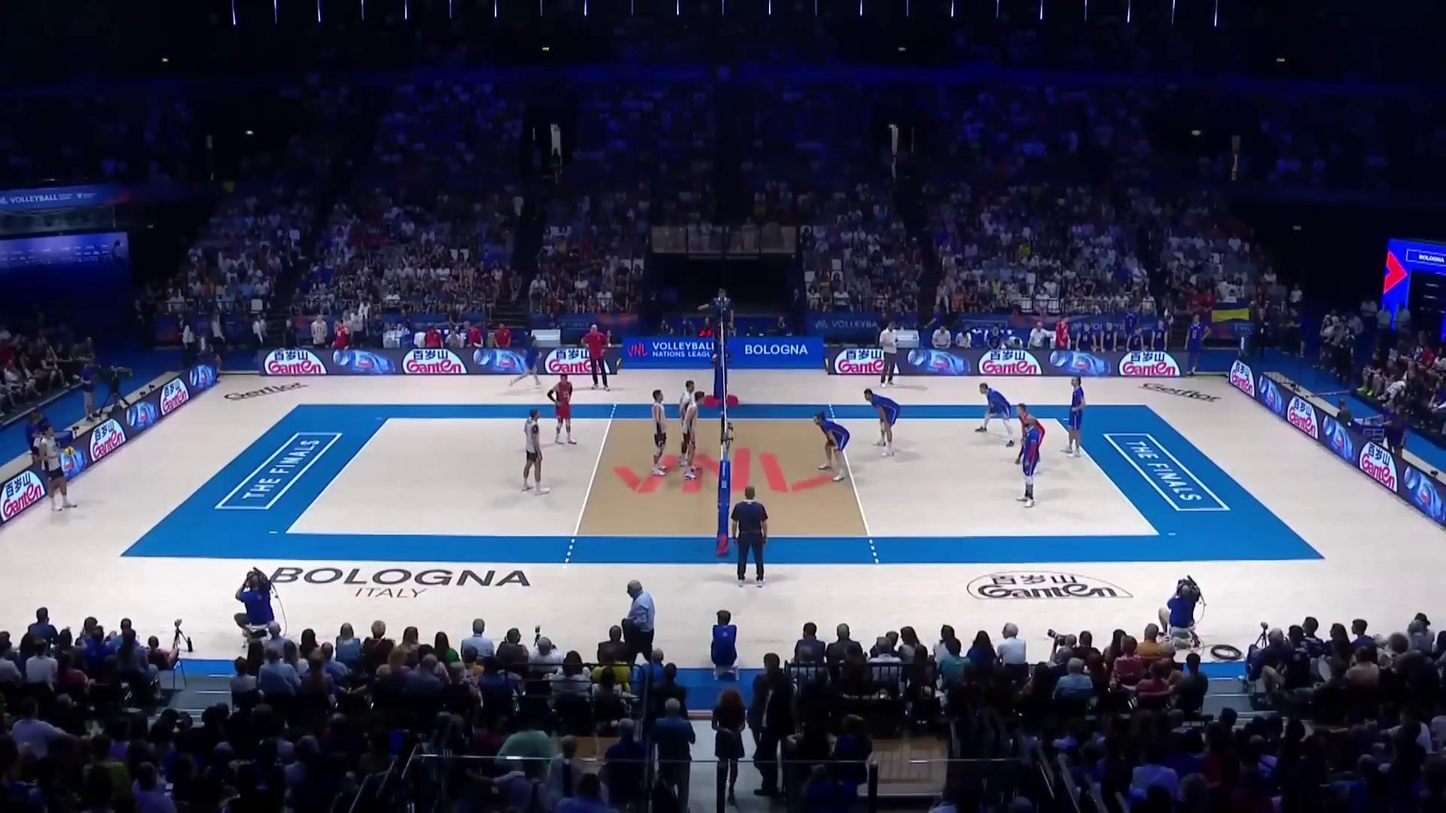player: (40, 426, 78, 513), (814, 410, 851, 482), (864, 387, 900, 459), (975, 383, 1016, 446), (647, 389, 673, 476), (1017, 414, 1040, 507), (1014, 404, 1045, 473), (522, 409, 547, 494), (682, 390, 704, 479), (549, 373, 575, 445), (1062, 376, 1084, 456), (680, 381, 694, 464)
refree: (731, 487, 770, 586), (709, 289, 733, 360)
